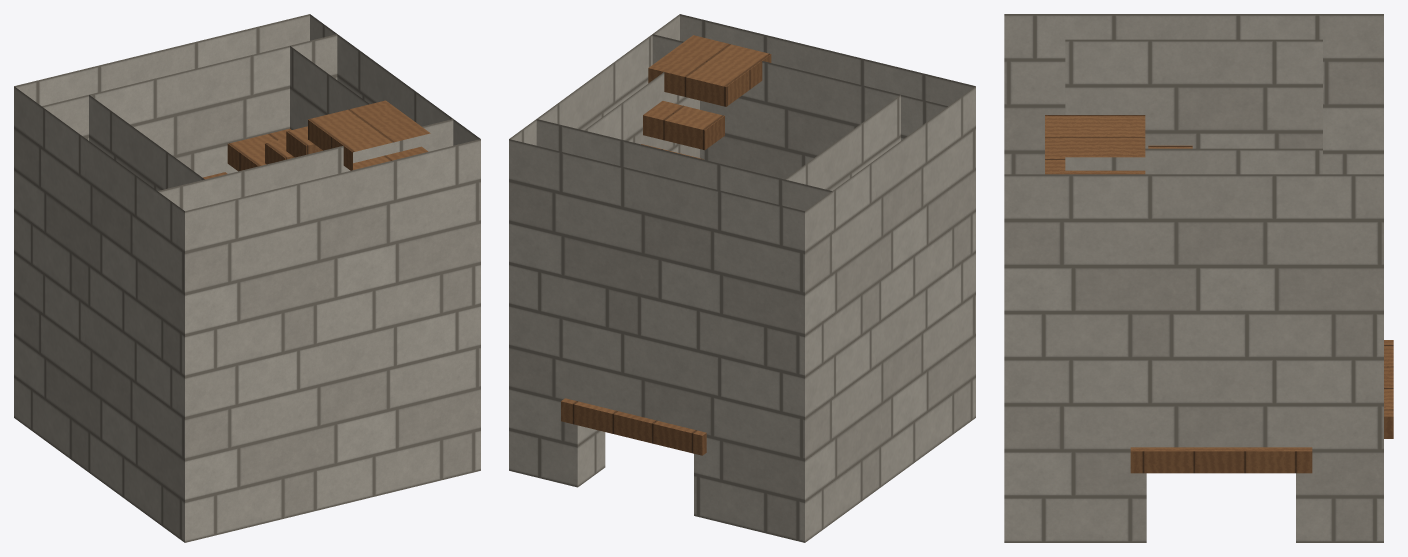
File: Tower_DoorTop_Convex.fbx
3 views of the same model, side by side, from view 1: azimuth 30°, elevation 25°; view 2: azimuth 150°, elevation 25°; view 3: azimuth 270°, elevation 25° (orthographic). The views are drawn at different scales.
Parts seen in each view (by area): view 1: Tower_DoorTop_Convex; view 2: Tower_DoorTop_Convex; view 3: Tower_DoorTop_Convex.
Boxes of the visible parts, bbox=[...] form: Tower_DoorTop_Convex: bbox=[14, 14, 480, 542]; Tower_DoorTop_Convex: bbox=[509, 14, 975, 542]; Tower_DoorTop_Convex: bbox=[1004, 14, 1393, 542].
Bounding box in the file's own units: 2.87 × 3 × 2.87.
2 materials, 2 textured.
